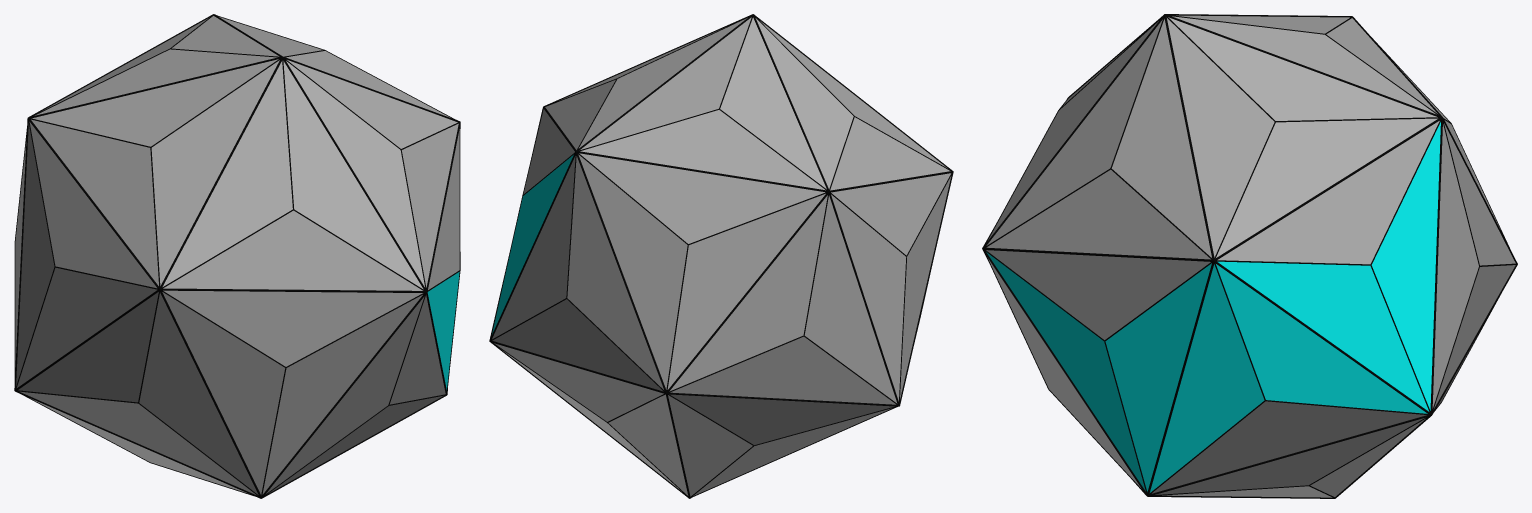
Rendered from TriakisIcosahedron6_8.glb.
3 views of the same model, side by side, from view 1: azimuth 30°, elevation 25°; view 2: azimuth 150°, elevation 25°; view 3: azimuth 270°, elevation 25° (orthographic). The views are drawn at different scales.
Bounding box in the file's own units: 6.26 × 6.59 × 6.52.
